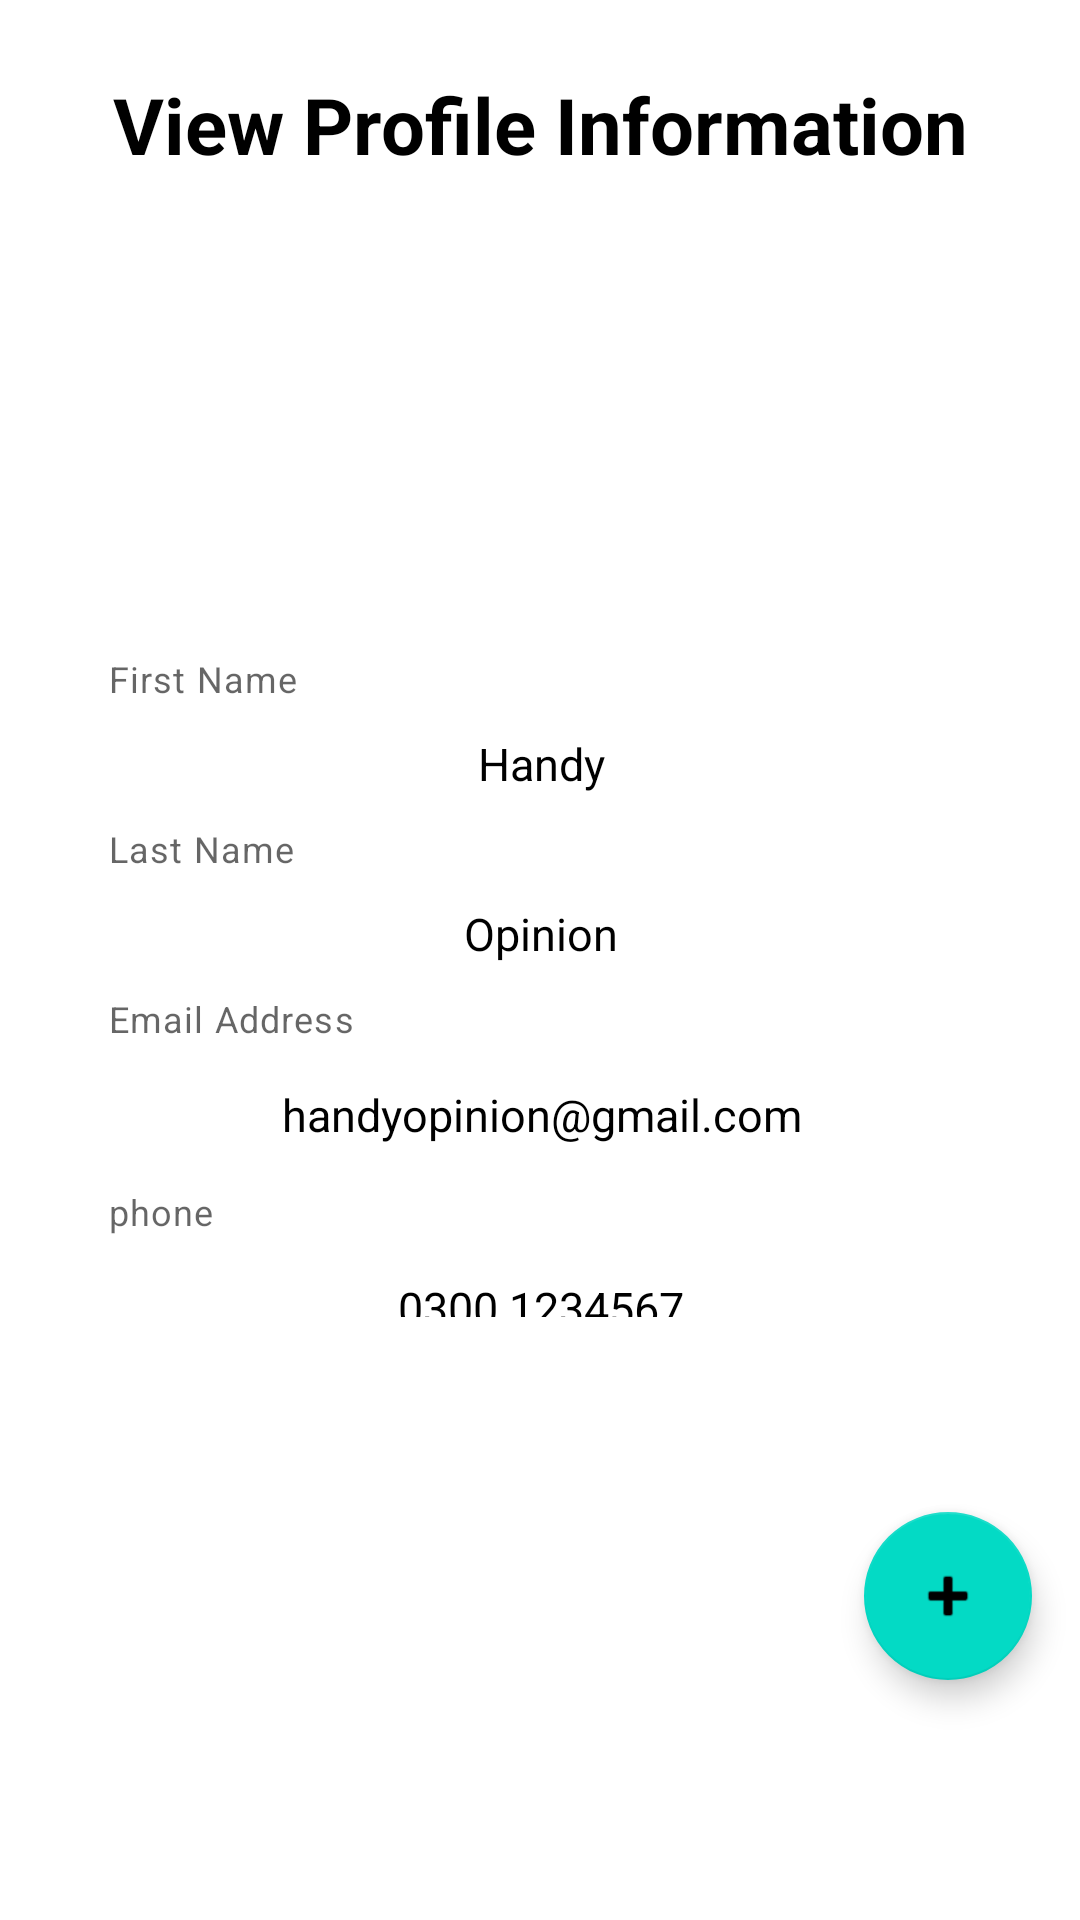

Icons on this 1080*1920 Android screen, each with its box as (x1, y1, x2, y2):
add: (864, 1512, 1032, 1680)
